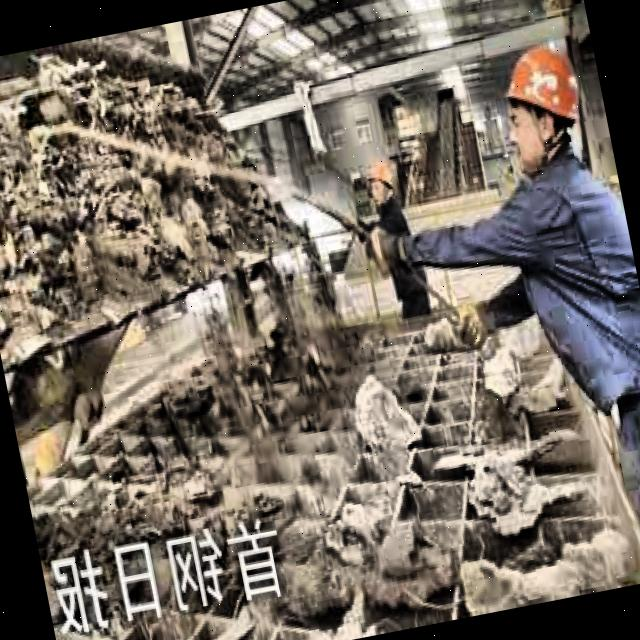helmet: (494, 32, 597, 177), (357, 150, 399, 213)
